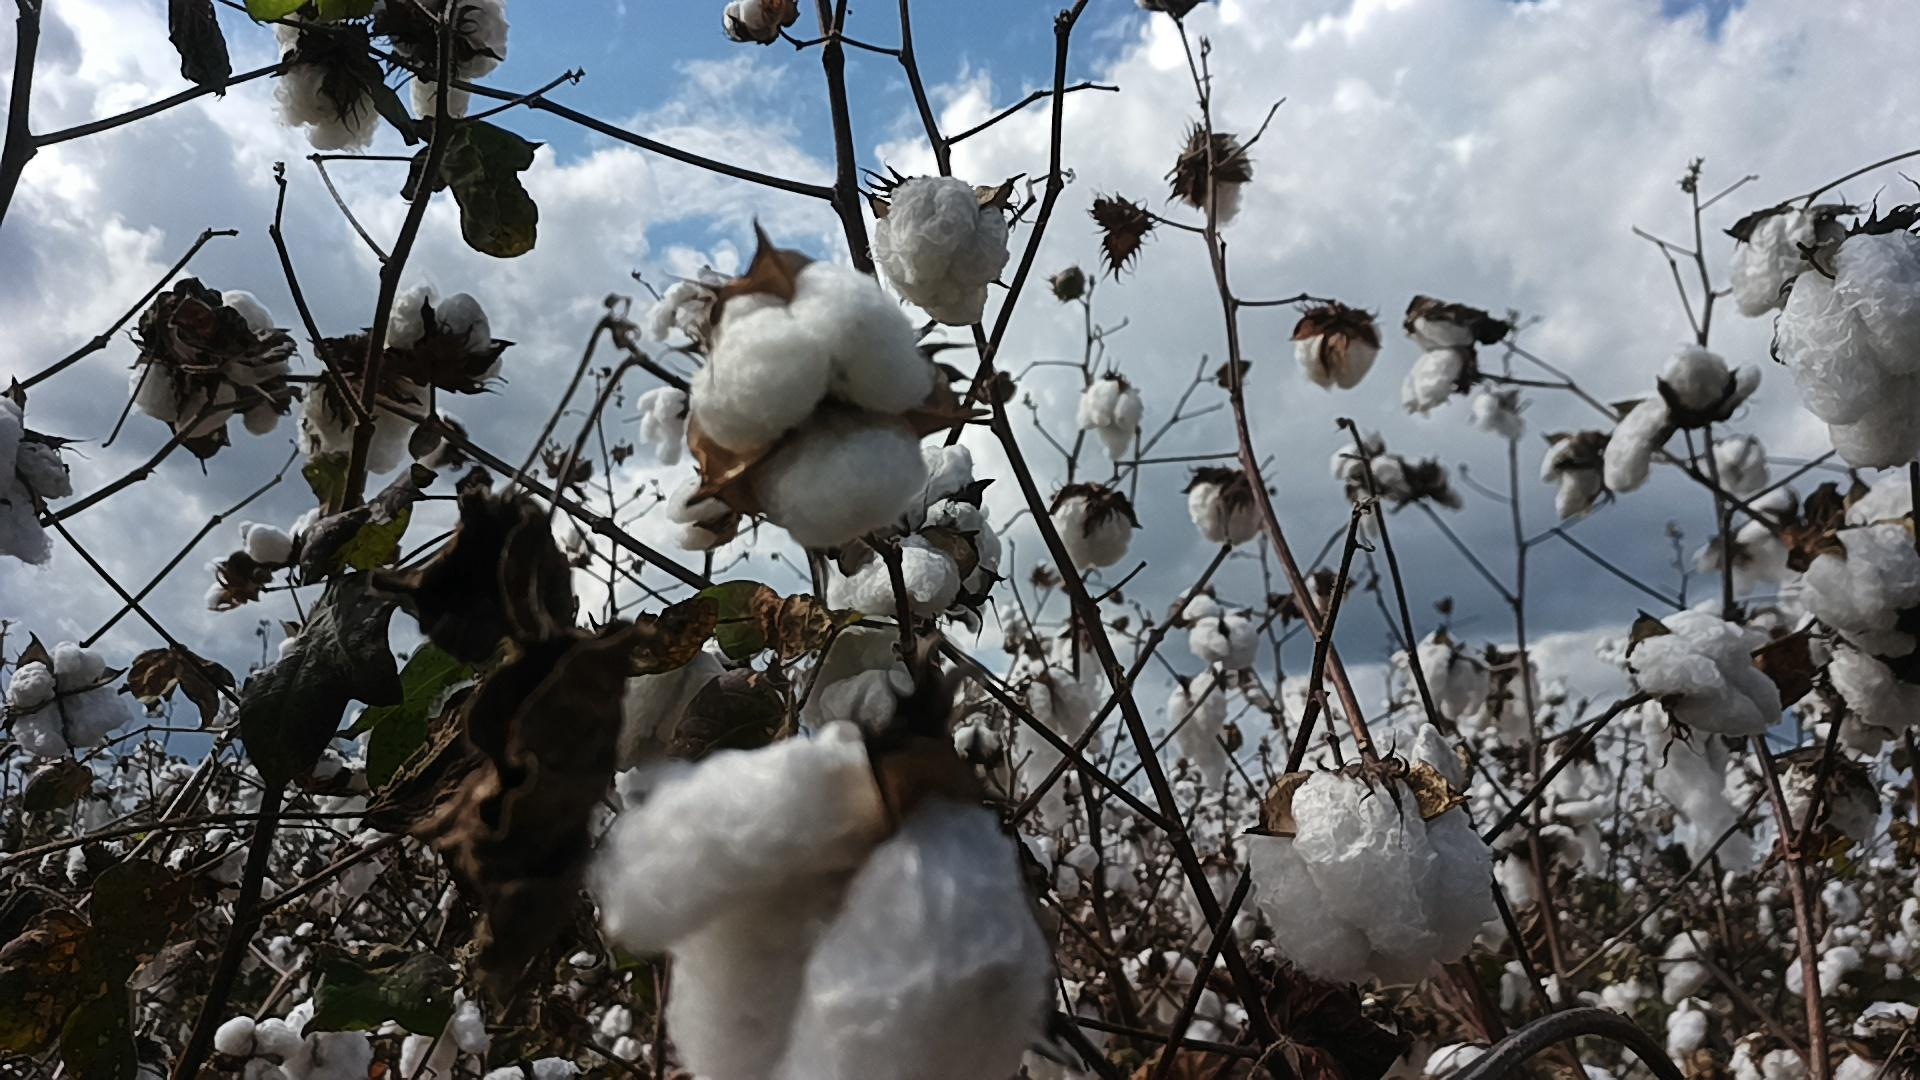cotton_ready: (588, 724, 1056, 1080), (688, 261, 936, 553), (1245, 770, 1501, 988), (1776, 227, 1920, 471), (1796, 460, 1920, 728), (825, 443, 1001, 620), (131, 287, 291, 448), (1604, 343, 1766, 491), (1640, 691, 1759, 877), (874, 171, 1010, 330), (1633, 607, 1785, 737), (270, 0, 382, 153), (295, 352, 430, 476), (7, 646, 135, 764), (1731, 208, 1855, 318), (1023, 669, 1108, 828), (385, 278, 502, 393), (206, 509, 328, 616), (409, 0, 513, 123), (0, 394, 70, 567), (401, 960, 500, 1080), (1402, 310, 1476, 417), (287, 997, 371, 1080), (1294, 314, 1381, 393), (1185, 471, 1270, 546), (1047, 493, 1133, 567), (215, 1015, 303, 1080), (667, 477, 742, 553), (1075, 377, 1142, 458), (1193, 131, 1249, 227), (721, 0, 787, 42)
